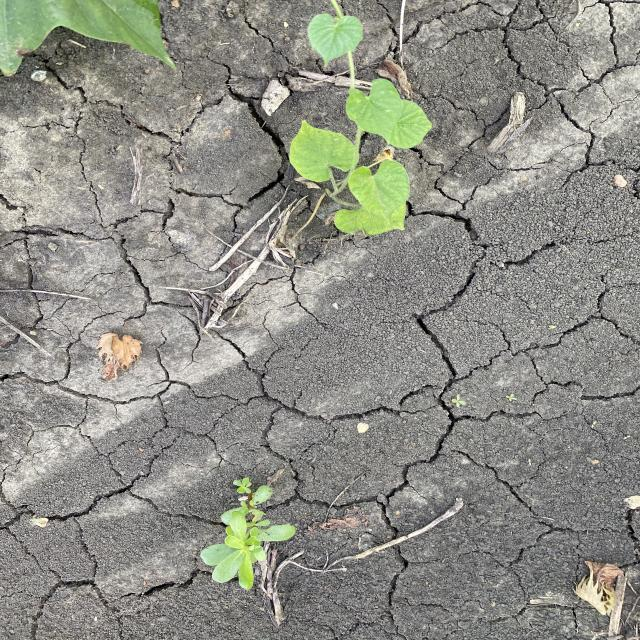MorningGlory: (287, 2, 435, 236)
Purslane: (199, 476, 297, 591)
